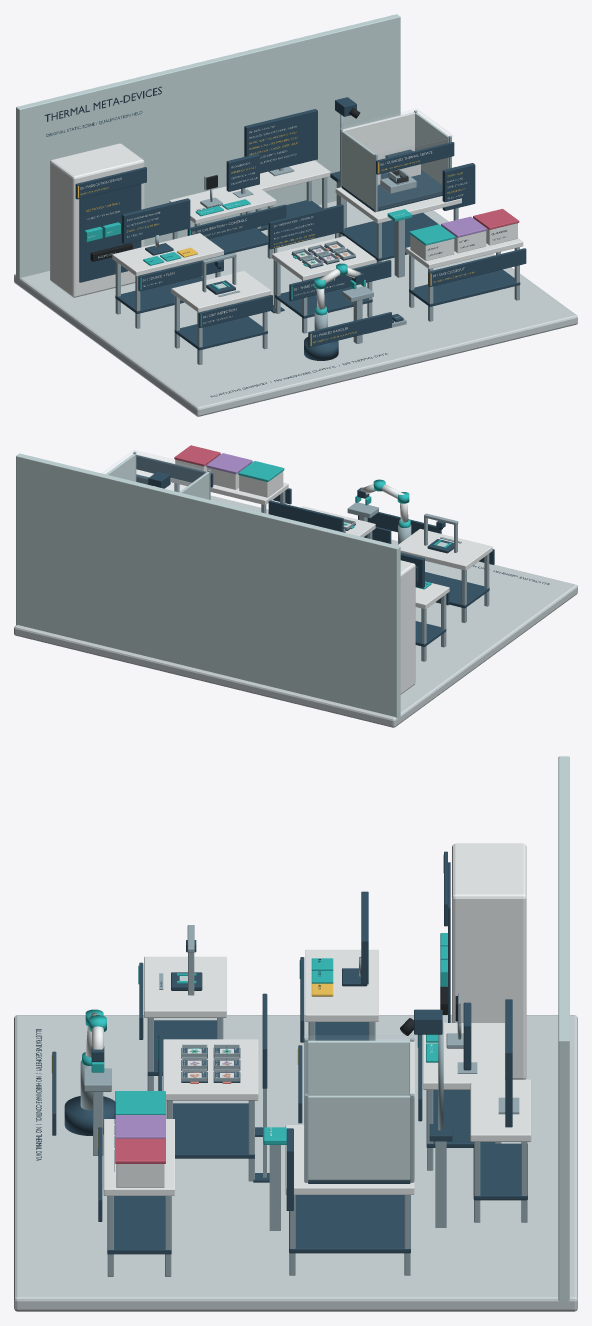
File: thermalmeta_lab.glb
3 renders of one model, top to bottom at view 1: azimuth 30°, elevation 25°; view 2: azimuth 150°, elevation 25°; view 3: azimuth 270°, elevation 25°, orthographic. The views are drawn at different scales.
Visible parts, largest first — view 1: environment.backdrop, environment.floor, A03.sealed_enclosure, A08.analysis_body, A03.closed_front, A01.review_body, A07.registration_board, A01.review_bench_top, A04.inspection_bench_top, A06.guard_back, A06.guard_side, A09.closeout_shelf (+30 smaller); view 2: environment.backdrop, environment.floor, A03.sealed_enclosure, A04.inspection_bench_top, A07.registration_board, A06.label_panel, A04.inspection_bench_shelf, A09.closeout_top, A09.STORAGE_bin, A10.label_panel, A09.QUARANTINE_lid, A09.RETURN_lid (+8 smaller); view 3: environment.floor, A03.sealed_enclosure, A06.guard_side.001, A06.thermal_bench_shelf, environment.backdrop, A06.guard_side, A04.inspection_bench_top, A02.condition_display_shelf, A01.review_bench_top, A02.condition_display_top, A05.calibration_bench_top, A08.analysis_bench_top (+17 smaller).
Part boxes in pixels (bbox=[...]): environment.backdrop: bbox=[16, 14, 400, 280]; environment.floor: bbox=[14, 201, 577, 416]; A03.sealed_enclosure: bbox=[50, 143, 144, 297]; A08.analysis_body: bbox=[244, 109, 317, 173]; A03.closed_front: bbox=[79, 184, 141, 282]; A01.review_body: bbox=[121, 198, 190, 244]; A07.registration_board: bbox=[268, 204, 343, 249]; A01.review_bench_top: bbox=[112, 233, 223, 276]; A04.inspection_bench_top: bbox=[171, 271, 270, 312]; A06.guard_back: bbox=[343, 112, 414, 159]; A06.guard_side: bbox=[341, 130, 374, 208]; A09.closeout_shelf: bbox=[409, 269, 520, 306]; environment.backdrop: bbox=[16, 453, 400, 721]; environment.floor: bbox=[14, 495, 577, 727]; A03.sealed_enclosure: bbox=[400, 560, 415, 694]; A04.inspection_bench_top: bbox=[397, 529, 492, 570]; A07.registration_board: bbox=[268, 500, 343, 532]; A06.label_panel: bbox=[136, 455, 213, 487]; A04.inspection_bench_shelf: bbox=[425, 572, 489, 608]; A09.closeout_top: bbox=[171, 478, 288, 504]; A09.STORAGE_bin: bbox=[239, 471, 283, 497]; A10.label_panel: bbox=[358, 512, 441, 534]; A09.QUARANTINE_lid: bbox=[174, 445, 220, 466]; A09.RETURN_lid: bbox=[206, 453, 252, 474]; environment.floor: bbox=[14, 1015, 577, 1311]; A03.sealed_enclosure: bbox=[452, 843, 526, 1079]; A06.guard_side.001: bbox=[308, 1095, 410, 1180]; A06.thermal_bench_shelf: bbox=[289, 1195, 410, 1253]; environment.backdrop: bbox=[558, 756, 569, 1304]; A06.guard_side: bbox=[307, 1040, 410, 1095]; A04.inspection_bench_top: bbox=[144, 956, 226, 1017]; A02.condition_display_shelf: bbox=[173, 1103, 254, 1158]; A01.review_bench_top: bbox=[305, 949, 378, 1021]; A02.condition_display_top: bbox=[163, 1039, 258, 1100]; A05.calibration_bench_top: bbox=[423, 1023, 504, 1089]; A08.analysis_bench_top: bbox=[470, 1079, 531, 1141].
Size of the model in its own units: 5.85 by 2.61 by 4.9.
